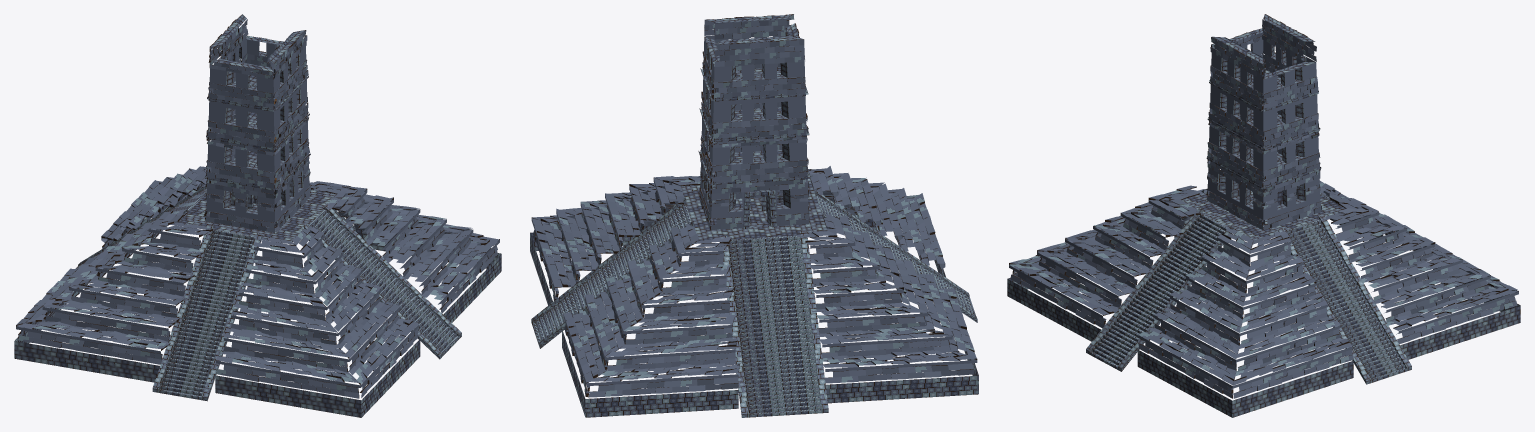
File: piramideCasa.gltf
3 views of the same model, side by side, from view 1: azimuth 30°, elevation 25°; view 2: azimuth 150°, elevation 25°; view 3: azimuth 270°, elevation 25° (orthographic). The views are drawn at different scales.
Parts seen in each view (by area): view 1: RUI-06_Piramide.001-col, RUI-05_Torreon.001-col; view 2: RUI-06_Piramide.001-col, RUI-05_Torreon.001-col; view 3: RUI-06_Piramide.001-col, RUI-05_Torreon.001-col.
Part boxes in pixels (<box>): RUI-06_Piramide.001-col: <box>14,166,501,417</box>; RUI-05_Torreon.001-col: <box>204,14,310,232</box>; RUI-06_Piramide.001-col: <box>530,166,978,417</box>; RUI-05_Torreon.001-col: <box>698,14,810,230</box>; RUI-06_Piramide.001-col: <box>1007,180,1520,417</box>; RUI-05_Torreon.001-col: <box>1206,14,1321,230</box>.
Bounding box in the file's own units: 45.2 × 26.48 × 45.2.
3 materials, 3 textured.
